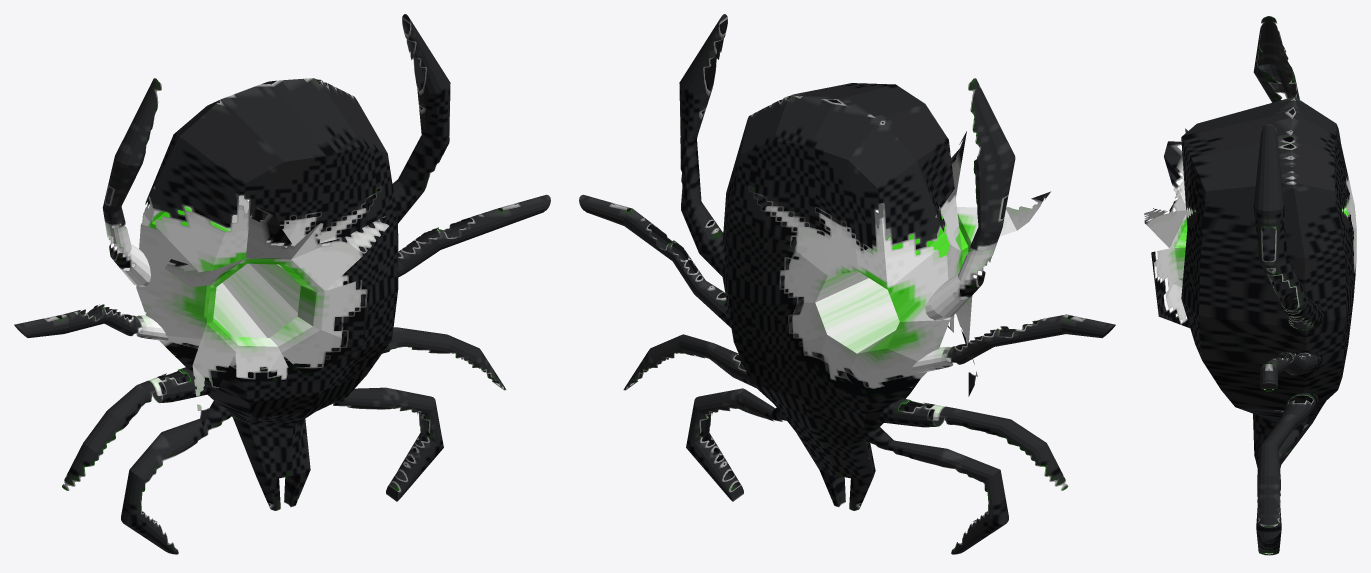
The model's file is LA MAS CARA.fbx.
3 renders of one model, left to right at view 1: azimuth 30°, elevation 25°; view 2: azimuth 150°, elevation 25°; view 3: azimuth 270°, elevation 25°, orthographic. The views are drawn at different scales.
Visible parts, largest first — view 1: Cube.001; view 2: Cube.001; view 3: Cube.001.
Part boxes in pixels (box(x1,y1,x2,y2)): Cube.001: box(14, 14, 550, 554); Cube.001: box(579, 14, 1115, 554); Cube.001: box(1144, 16, 1356, 555).
Size of the model in its own units: 4.88 by 4.26 by 1.85.
